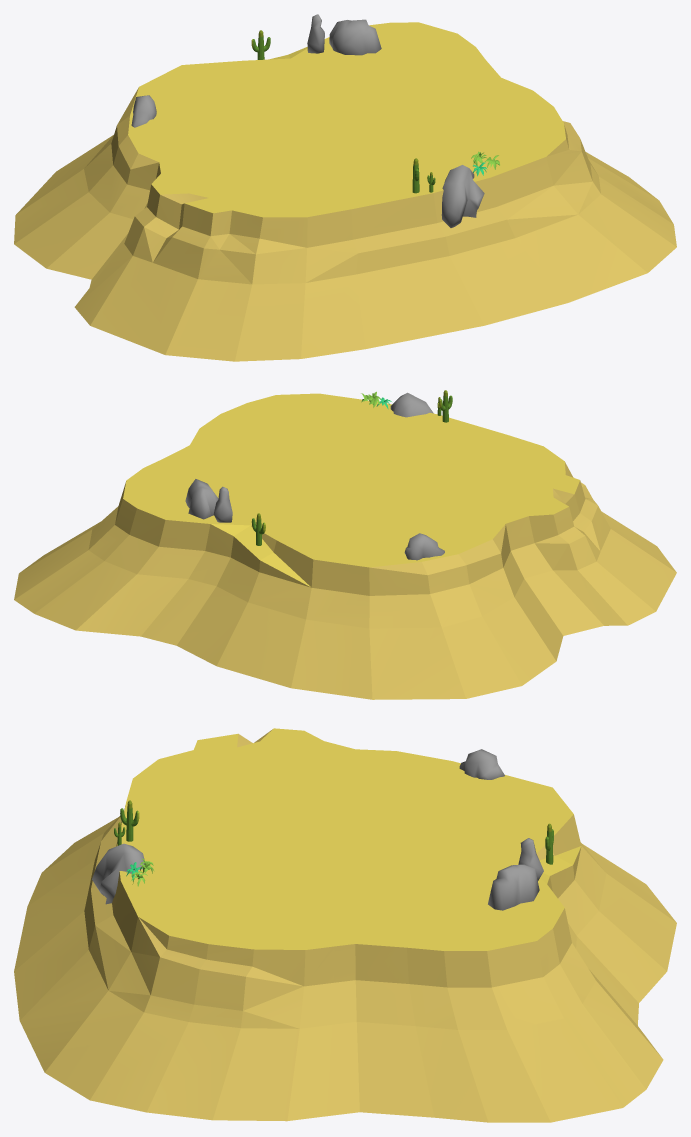
Rendered from Islands_13.fbx.
3 renders of one model, top to bottom at view 1: azimuth 30°, elevation 25°; view 2: azimuth 150°, elevation 25°; view 3: azimuth 270°, elevation 25°, orthographic. The views are drawn at different scales.
Parts seen in each view (by area): view 1: Islands_13; view 2: Islands_13; view 3: Islands_13.
Boxes of the visible parts, x1,y1,x2,y2 form: Islands_13: (14,14,676,361); Islands_13: (14,390,676,699); Islands_13: (14,728,676,1122).
Size of the model in its own units: 10529 by 2632 by 9193.
